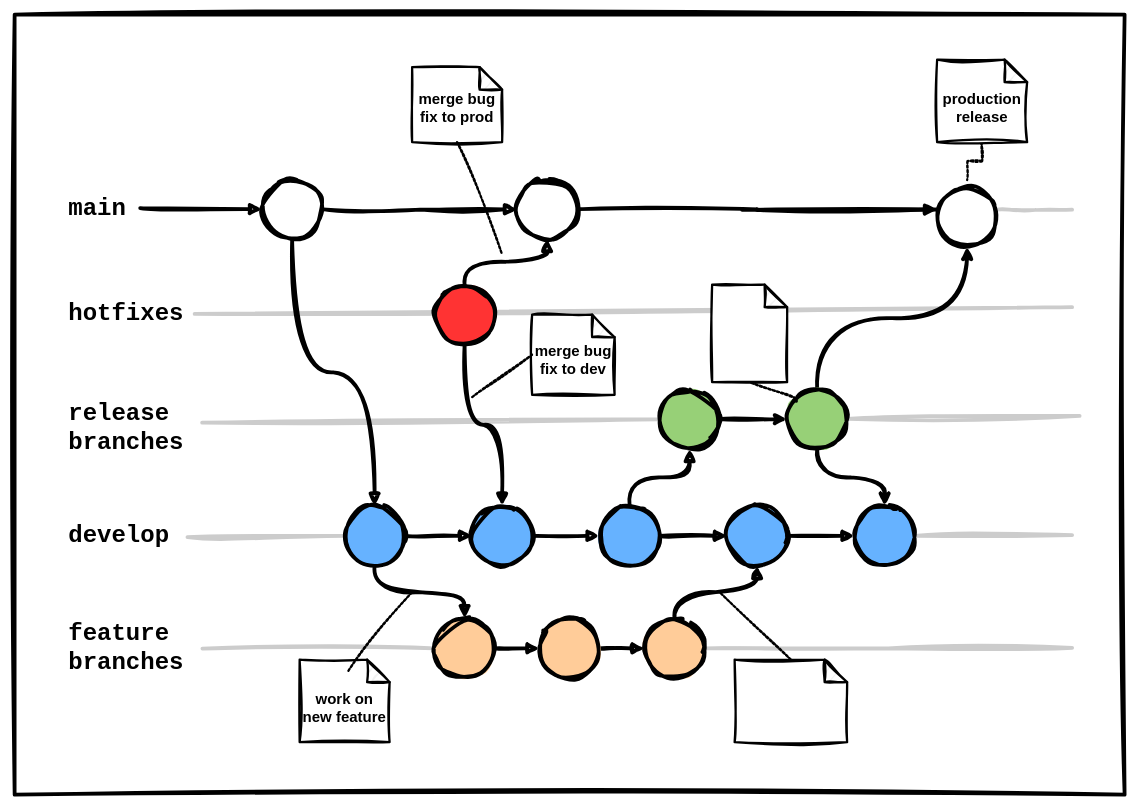
Image size: 1139x809. Some labels were removed from this diagram. Each missing label, with the centre of its shape:
"merge feature to develop" goes at (x=790, y=700).
"only bug fixes are allowed!" goes at (x=749, y=333).
